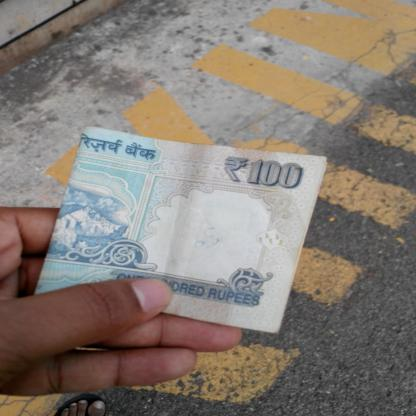Old100Back: (37, 124, 330, 335)
